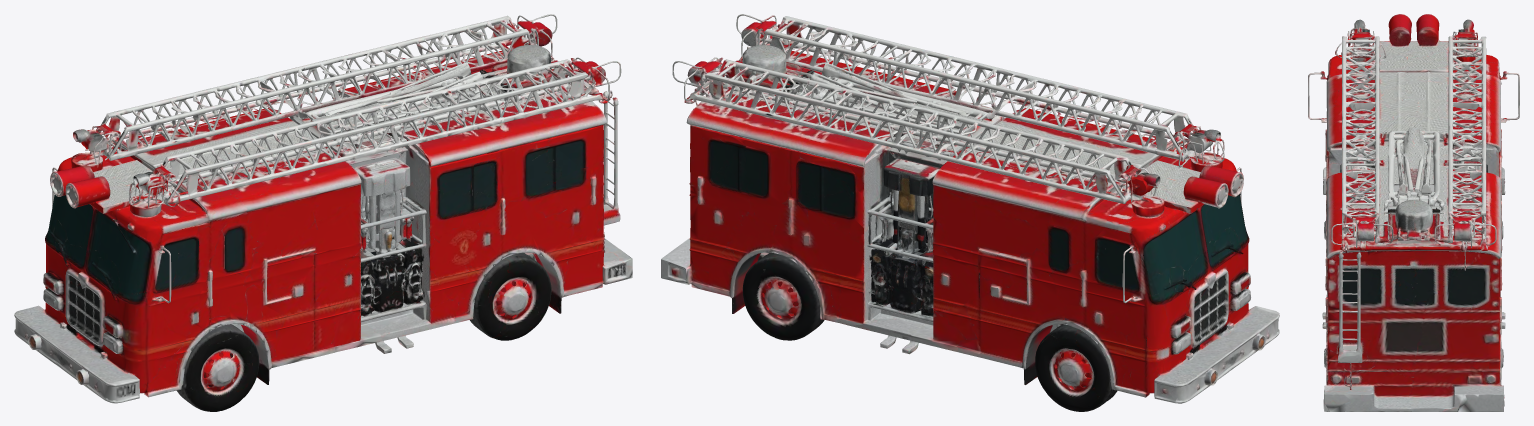
The model's file is firetruck.glb.
The picture shows the model from 3 angles, left to right: view 1: azimuth 30°, elevation 25°; view 2: azimuth 150°, elevation 25°; view 3: azimuth 270°, elevation 25°; orthographic projection. The views are drawn at different scales.
Size of the model in its own units: 1.9 by 0.8258 by 0.7263.
Materials: 1 (1 with a texture image).
